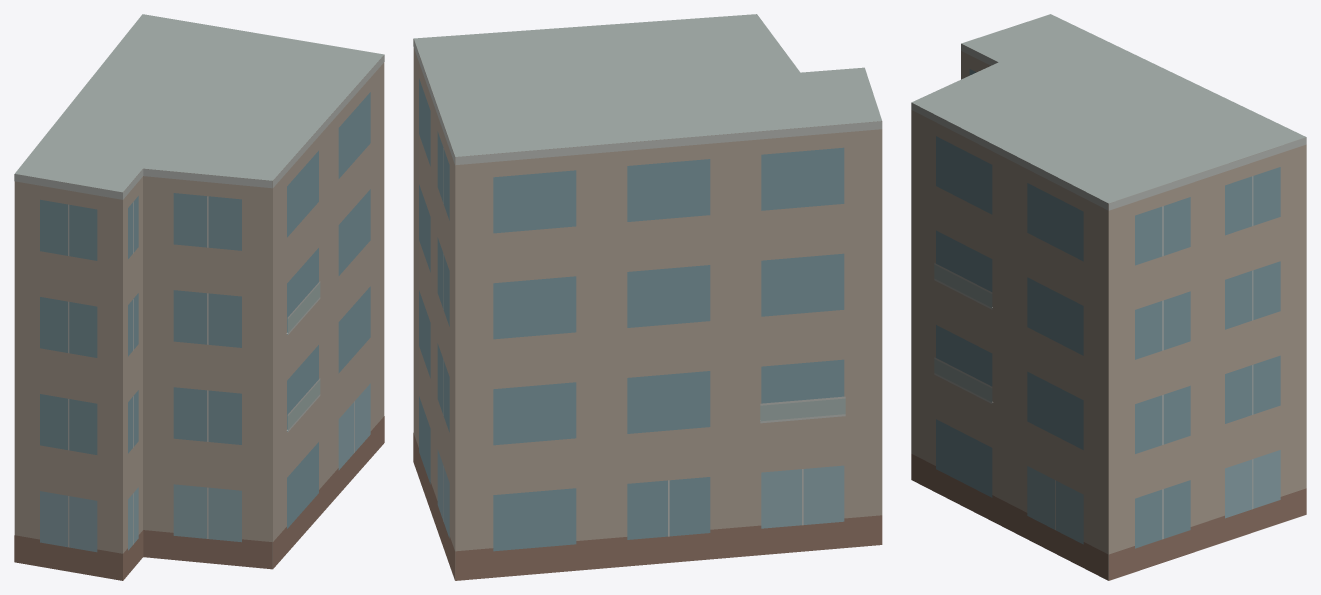
The model's file is survey-upis-32792018.glb.
The picture shows the model from 3 angles, left to right: view 1: azimuth 30°, elevation 25°; view 2: azimuth 150°, elevation 25°; view 3: azimuth 270°, elevation 25°; orthographic projection. The views are drawn at different scales.
Parts seen in each view (by area): view 1: survey-upis-32792018.tmp; view 2: survey-upis-32792018.tmp; view 3: survey-upis-32792018.tmp.
Boxes of the visible parts, <box> form: survey-upis-32792018.tmp: <box>14,14,384,580</box>; survey-upis-32792018.tmp: <box>413,14,882,580</box>; survey-upis-32792018.tmp: <box>911,14,1306,580</box>.
Bounding box in the file's own units: 13.63 × 12.65 × 12.02.
